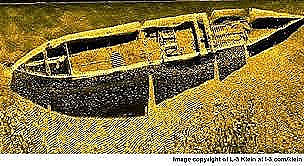ship: (11, 7, 304, 82)
